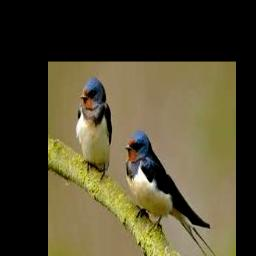Swallow: (124, 131, 226, 256), (76, 78, 113, 174)
